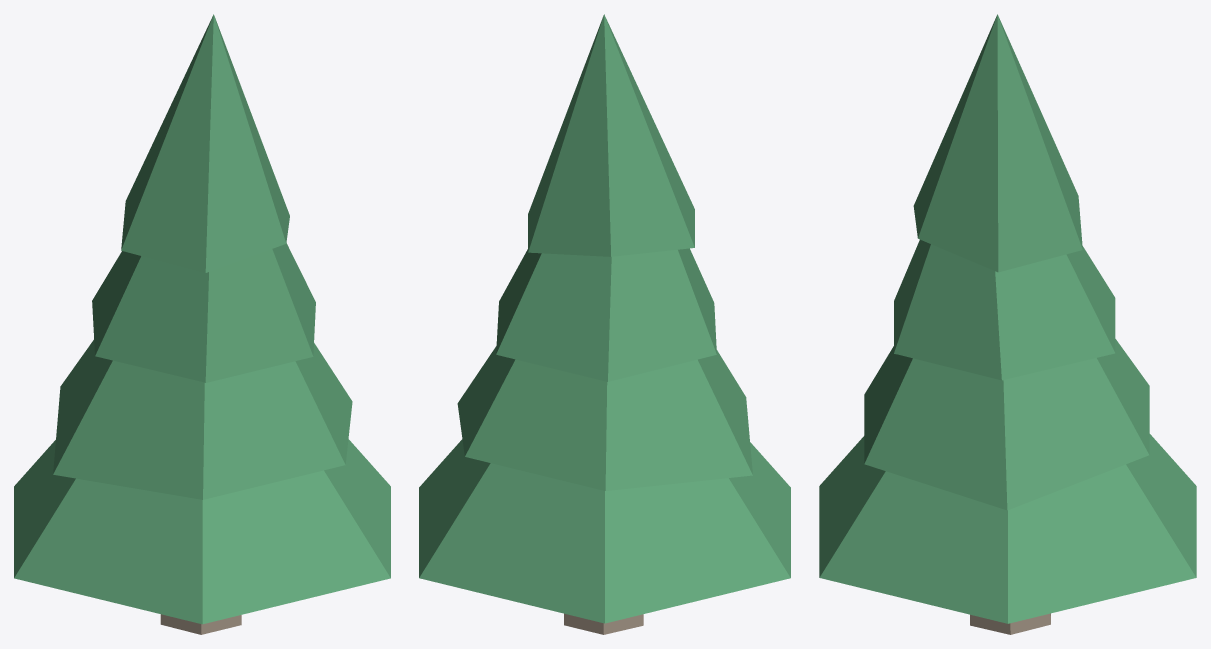
Rendered from Hilly_Prop_Tree_Pine_2.glb.
3 views of the same model, side by side, from view 1: azimuth 30°, elevation 25°; view 2: azimuth 150°, elevation 25°; view 3: azimuth 270°, elevation 25° (orthographic).
Visible parts, largest first — view 1: Hilly_Prop_Tree_Pine_2; view 2: Hilly_Prop_Tree_Pine_2; view 3: Hilly_Prop_Tree_Pine_2.
Part boxes in pixels (bbox=[...]): Hilly_Prop_Tree_Pine_2: bbox=[14, 14, 390, 634]; Hilly_Prop_Tree_Pine_2: bbox=[419, 14, 790, 634]; Hilly_Prop_Tree_Pine_2: bbox=[819, 14, 1196, 634].
Bounding box in the file's own units: 2.6 × 3.98 × 2.25.
